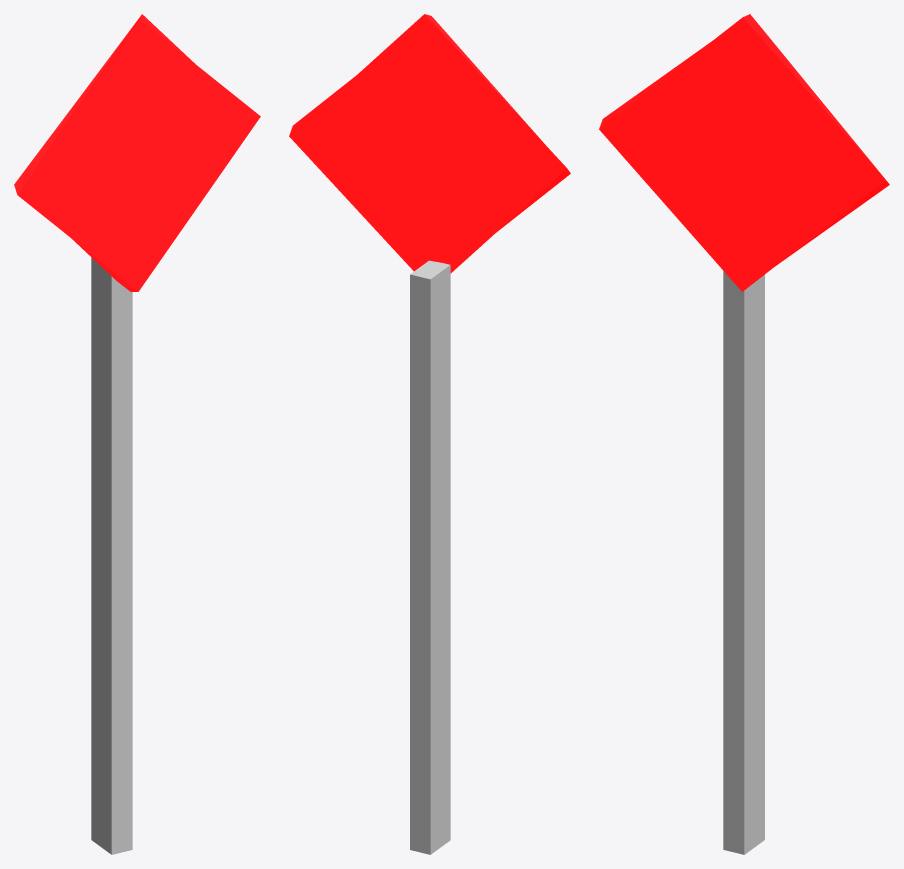
The model's file is stopSignDiff.dae.
3 renders of one model, left to right at view 1: azimuth 30°, elevation 25°; view 2: azimuth 150°, elevation 25°; view 3: azimuth 330°, elevation 25°, orthographic. The views are drawn at different scales.
Parts seen in each view (by area): view 1: Cube.001, Cube; view 2: Cube.001, Cube; view 3: Cube.001, Cube.
Part boxes in pixels (x1,y1,x2,y2): Cube.001: (14, 14, 260, 291); Cube: (91, 257, 132, 854); Cube.001: (289, 14, 570, 273); Cube: (410, 260, 450, 854); Cube.001: (599, 14, 889, 291); Cube: (723, 271, 764, 854).
Bounding box in the file's own units: 0.549 × 0.1251 × 1.66.
